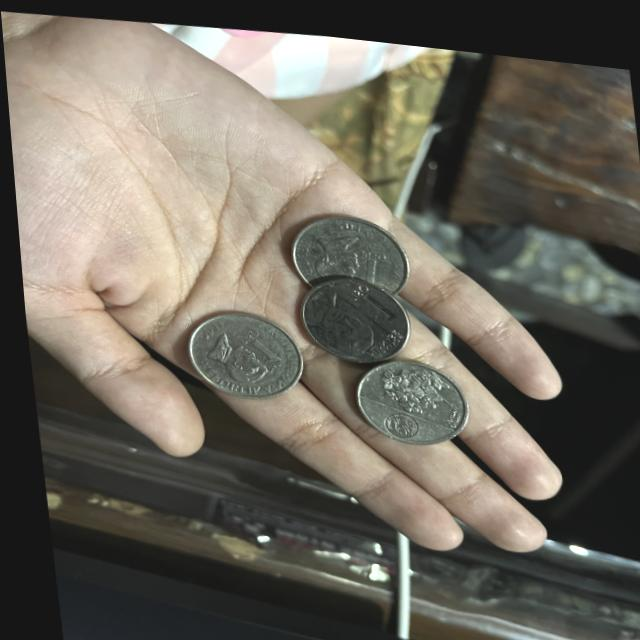1_New_Back: (365, 355, 463, 420)
1_New_Front: (337, 268, 408, 325)
1_Old_Front: (224, 318, 293, 366), (337, 234, 395, 281)
